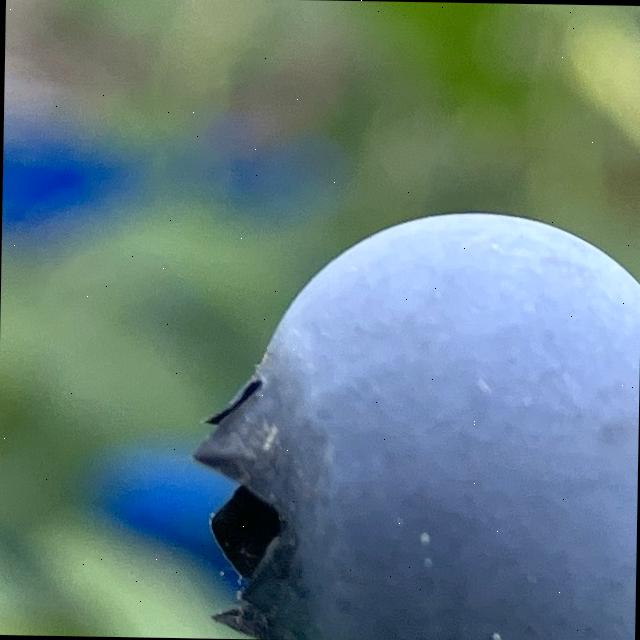Blueberries: (183, 198, 640, 640)
